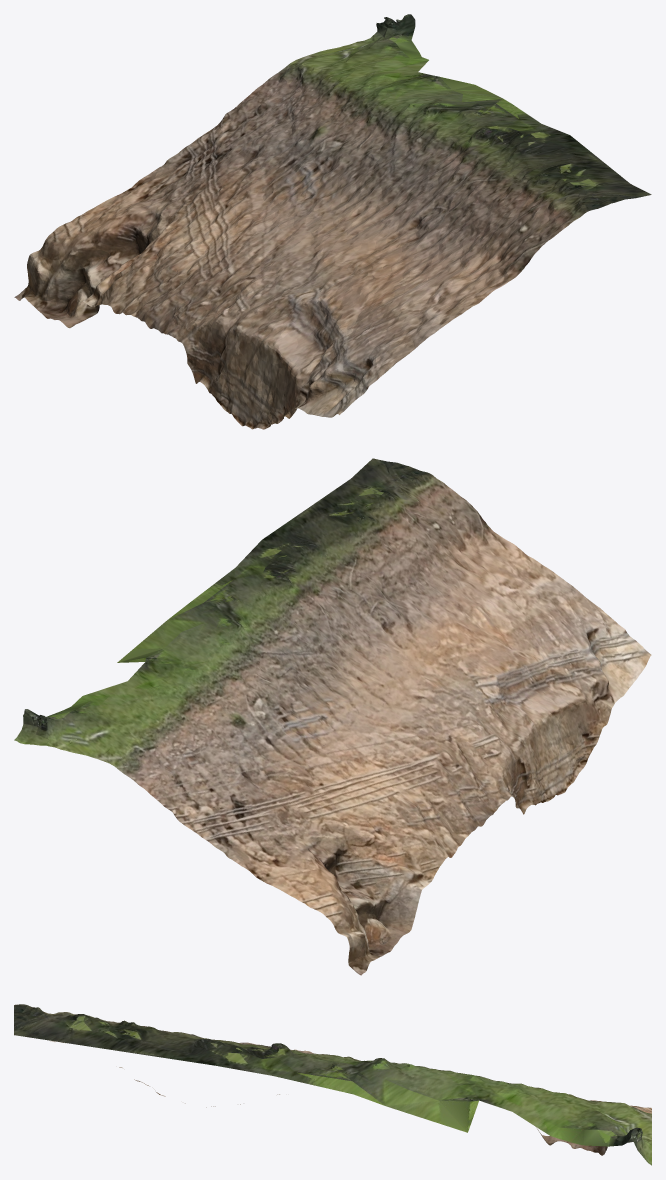
3 renders of one model, top to bottom at view 1: azimuth 30°, elevation 25°; view 2: azimuth 150°, elevation 25°; view 3: azimuth 270°, elevation 25°, orthographic. The views are drawn at different scales.
Size of the model in its own units: 3.49 by 2.28 by 5.05.
2 materials, 2 textured.
